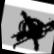not correct: (2, 8, 54, 54)
